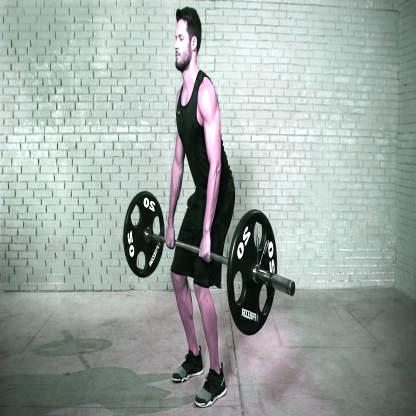Barbell: (286, 276, 297, 306)
